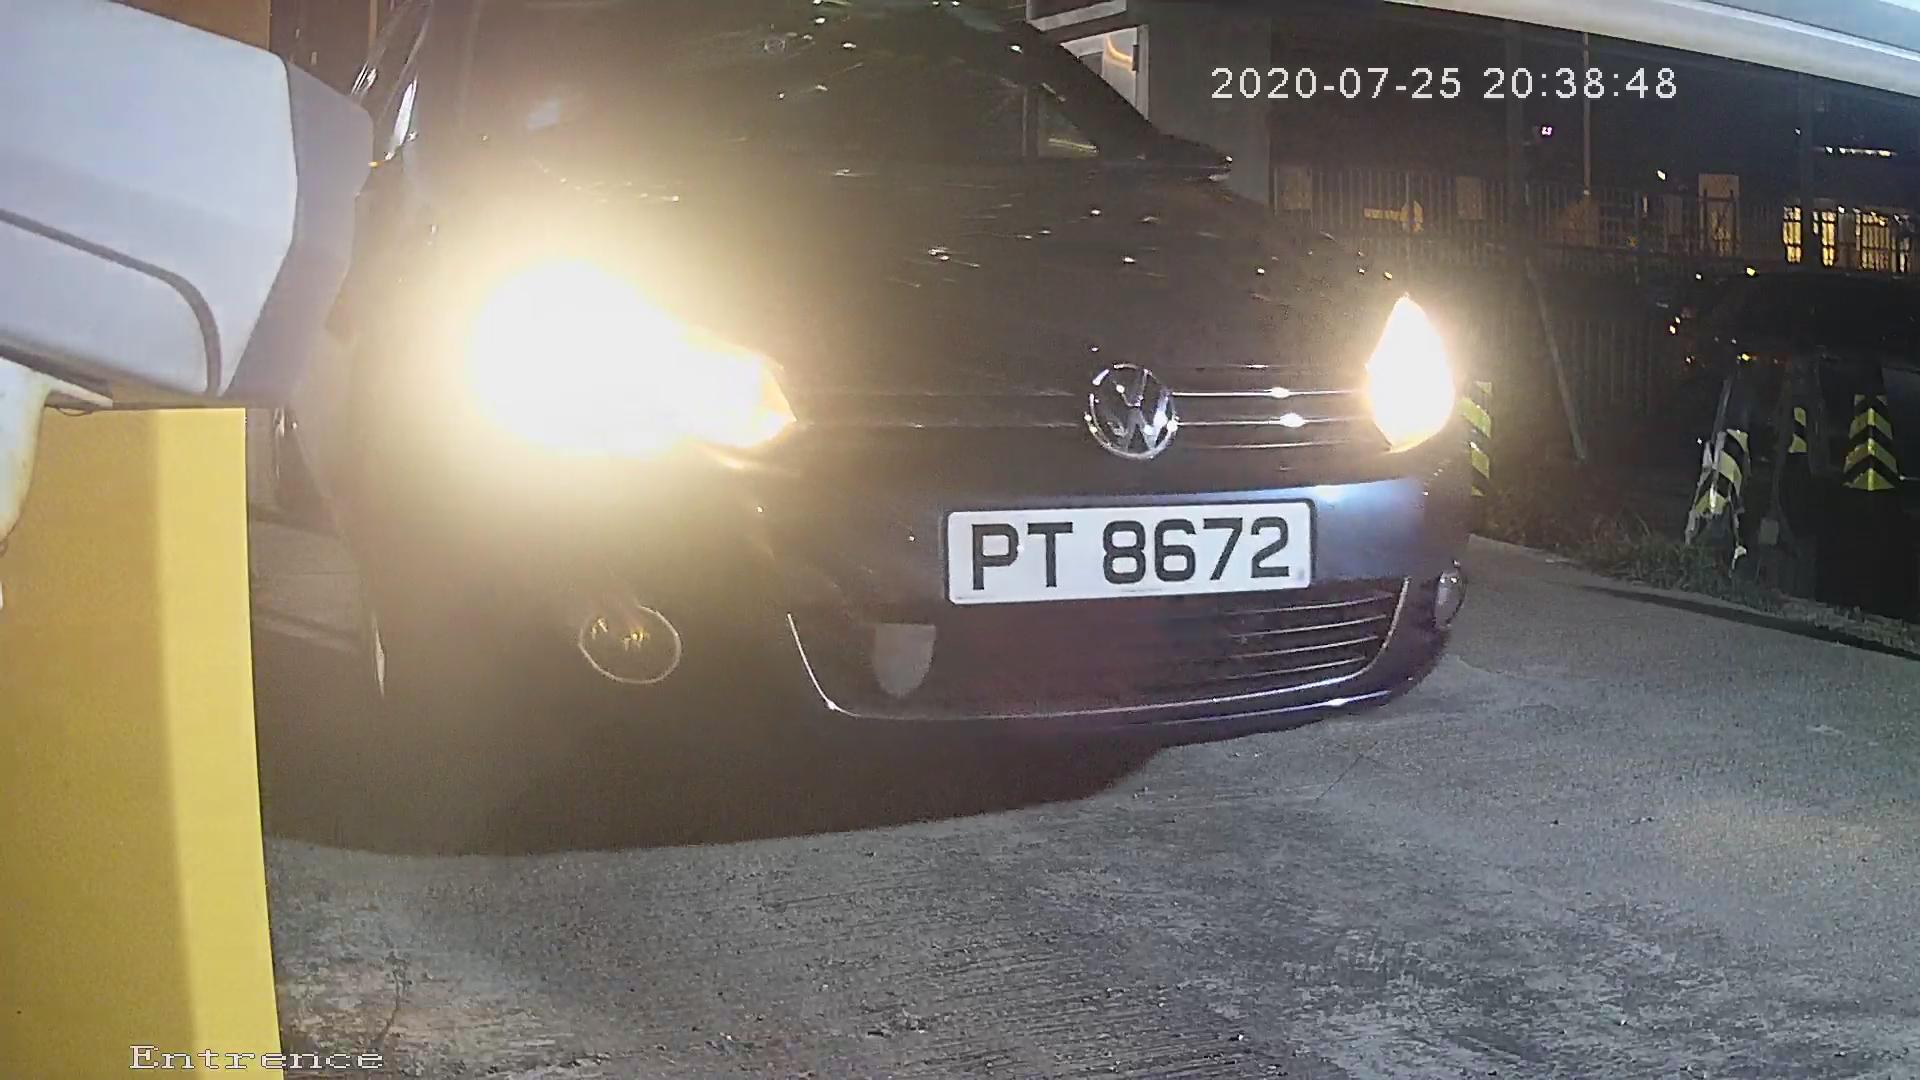License Plate: (909, 492, 1338, 613)
